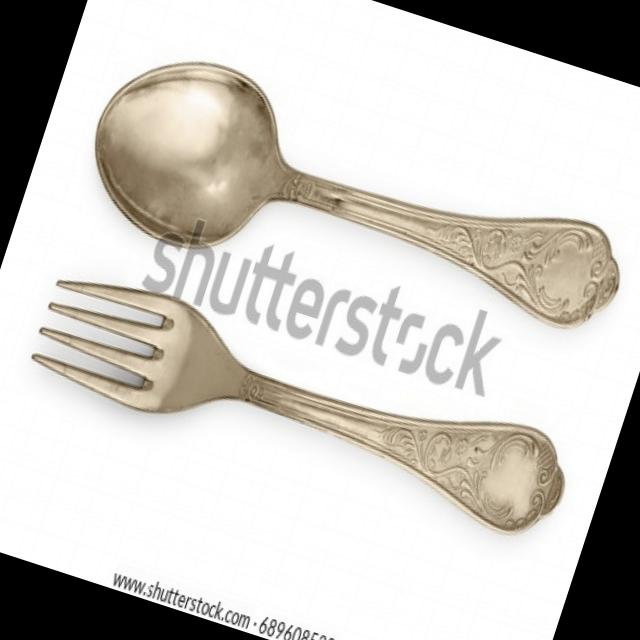fork: (23, 260, 586, 548)
